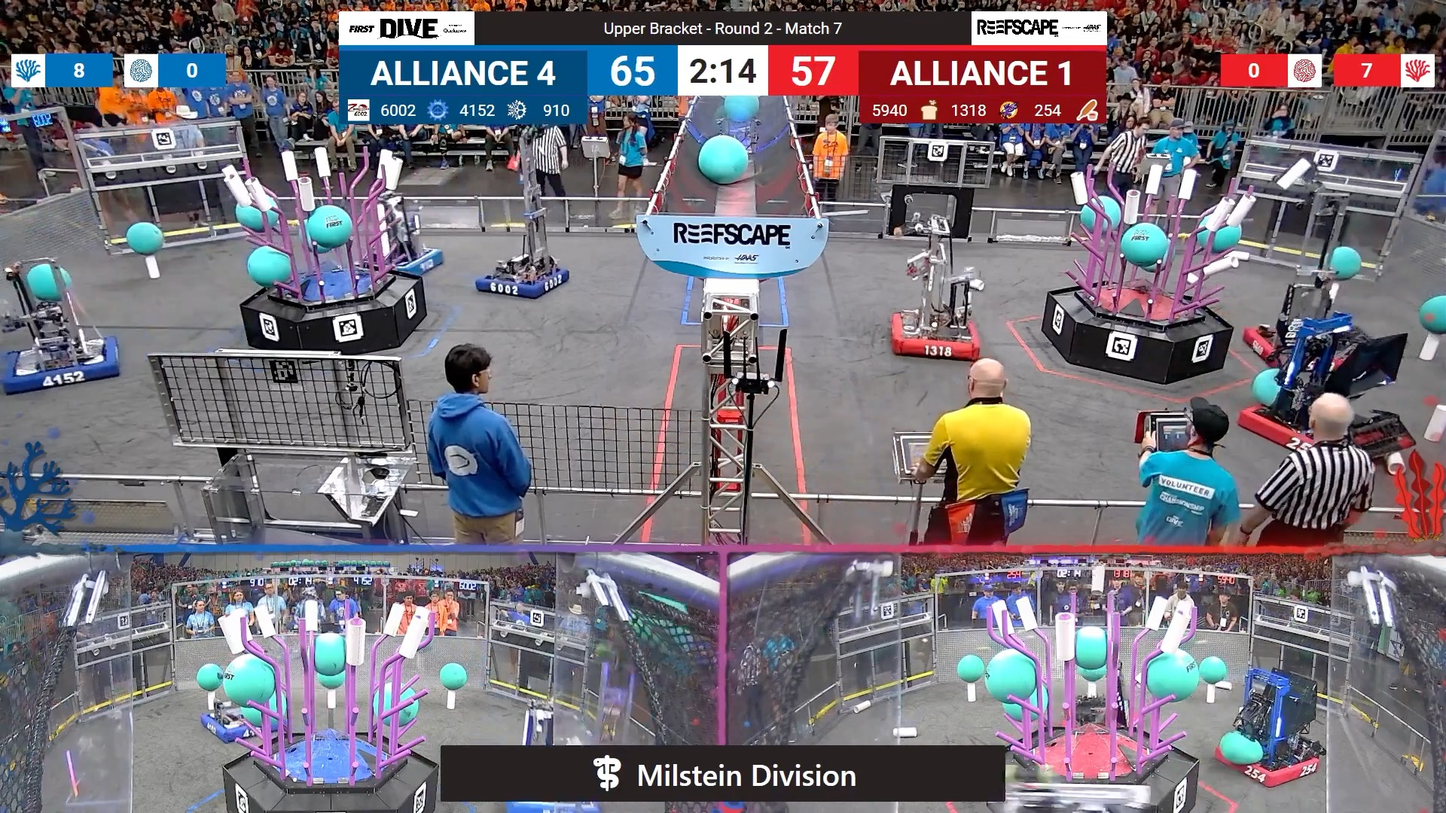bumpers: (1232, 400, 1397, 460), (4, 330, 132, 399), (1243, 315, 1363, 378), (884, 311, 992, 367), (1218, 741, 1328, 790), (472, 262, 579, 302), (193, 705, 283, 742), (374, 248, 453, 281)
